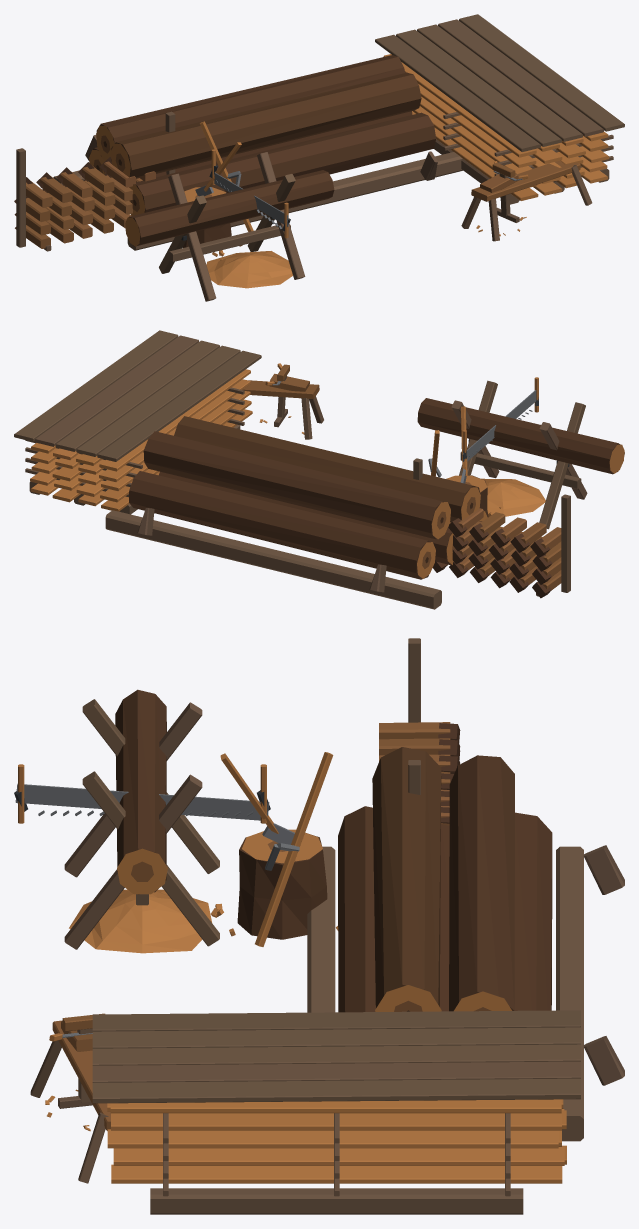
Rendered from station_timber_sawbuck_a.glb.
3 views of the same model, one above another, from view 1: azimuth 30°, elevation 25°; view 2: azimuth 150°, elevation 25°; view 3: azimuth 270°, elevation 25° (orthographic). The views are drawn at different scales.
Parts seen in each view (by area): view 1: station_timber_sawbuck_a_mesh; view 2: station_timber_sawbuck_a_mesh; view 3: station_timber_sawbuck_a_mesh.
Boxes of the visible parts, x1,y1,x2,y2 form: station_timber_sawbuck_a_mesh: (14, 14, 624, 301); station_timber_sawbuck_a_mesh: (14, 330, 624, 609); station_timber_sawbuck_a_mesh: (14, 638, 624, 1214).
Size of the model in its own units: 6.44 by 1.28 by 3.93.
